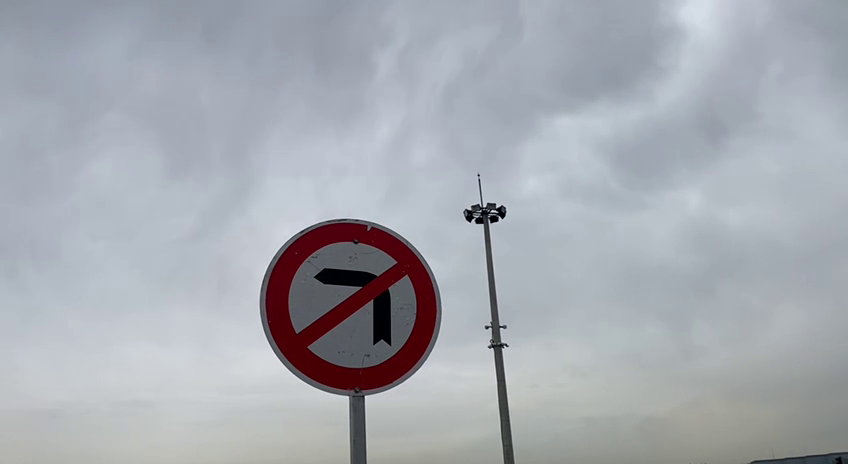noTurnLeft: (253, 211, 448, 402)
